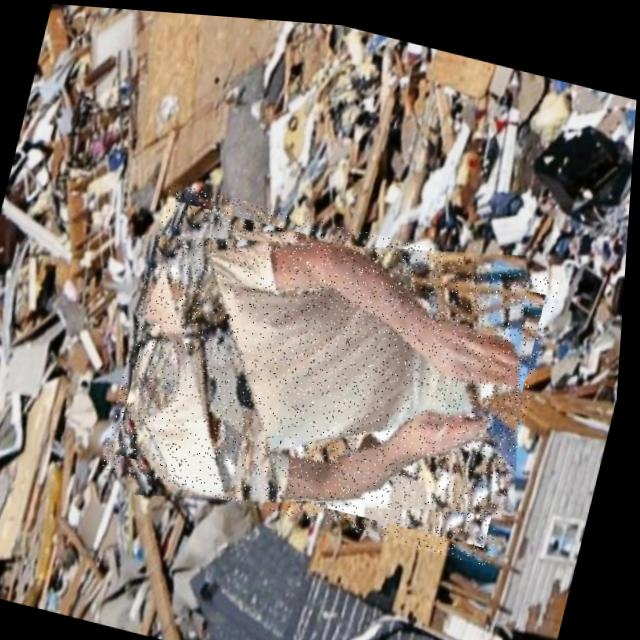Person in Rubble: (103, 175, 567, 560)
